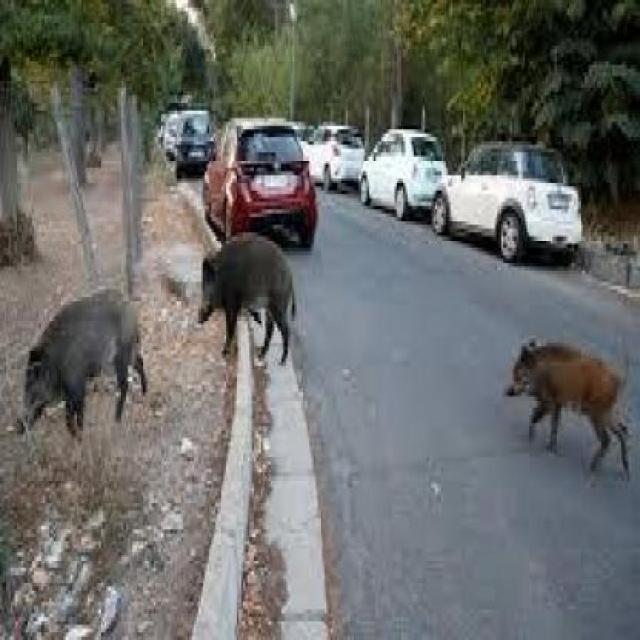wildboar: (12, 280, 152, 454), (498, 332, 634, 483), (194, 222, 300, 362)
